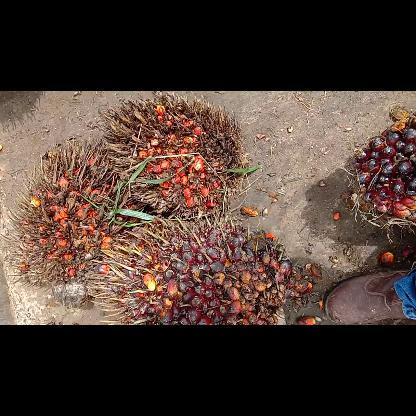TBS masak: (86, 216, 304, 324)
Terlalu masak: (5, 136, 133, 310), (99, 91, 248, 221)
